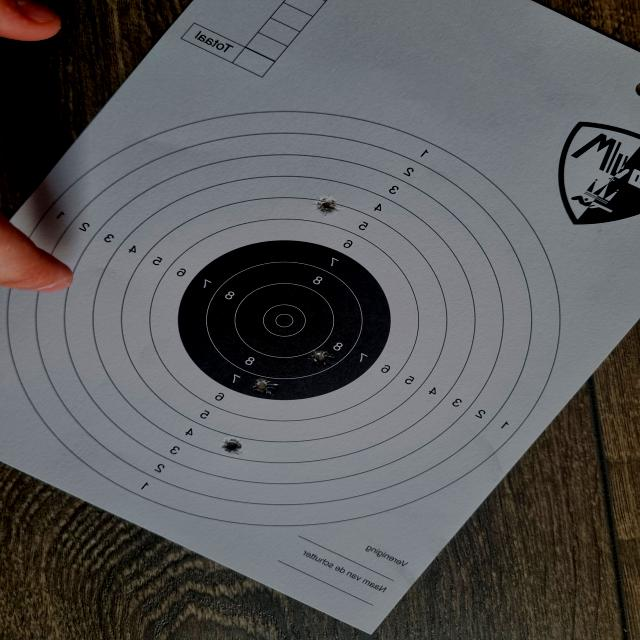4: (221, 438, 242, 454)
5: (316, 198, 338, 217)
7: (251, 379, 275, 396)
8: (305, 350, 333, 370)
Target: (8, 111, 562, 527)
black_contour: (178, 240, 391, 401)
